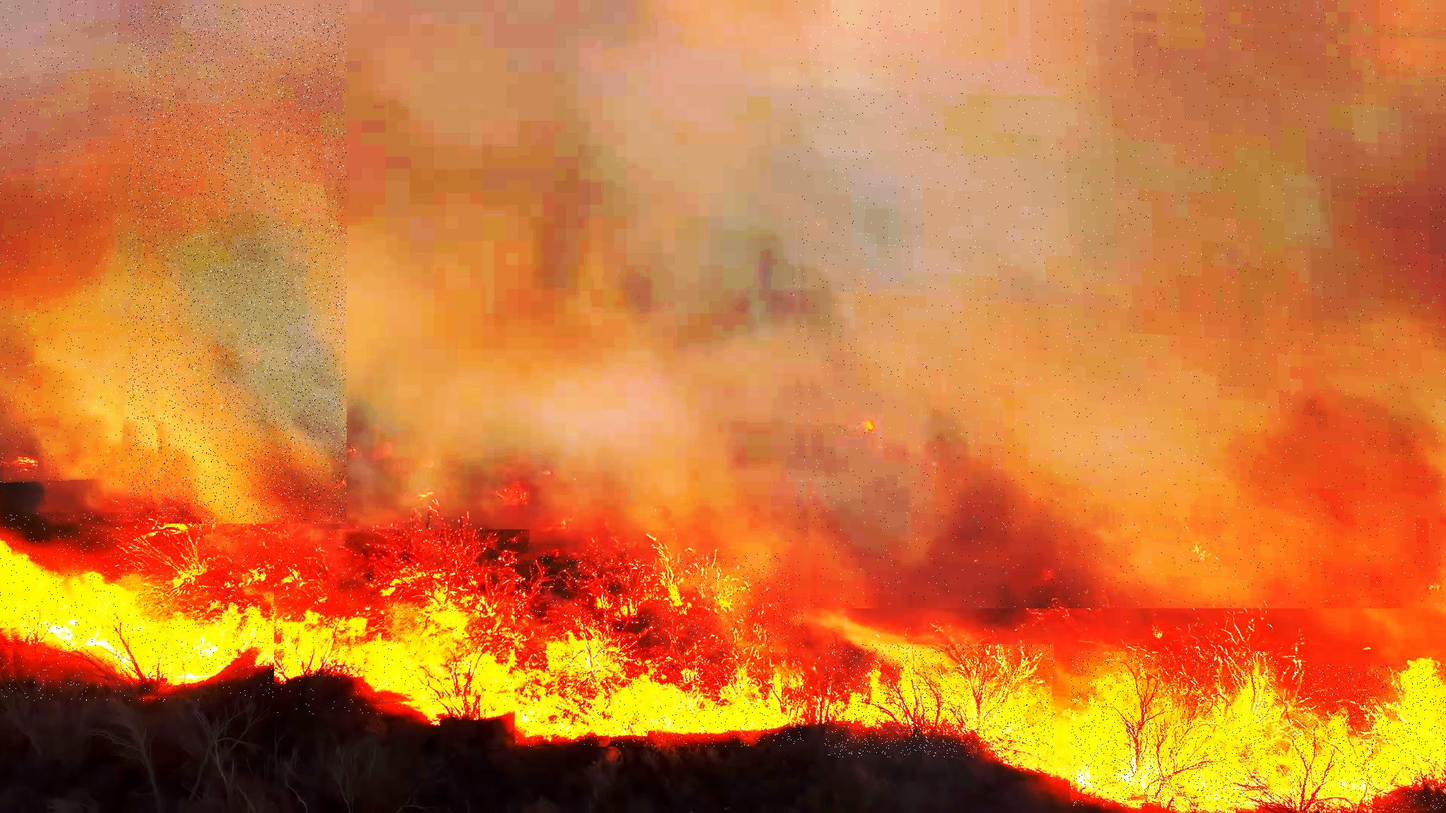fire: (515, 553, 804, 747), (0, 512, 275, 701), (274, 529, 531, 714), (1070, 651, 1281, 807), (825, 644, 1055, 757), (1292, 665, 1446, 812)
smoke: (788, 0, 1446, 608), (128, 4, 347, 524), (0, 0, 155, 484)
